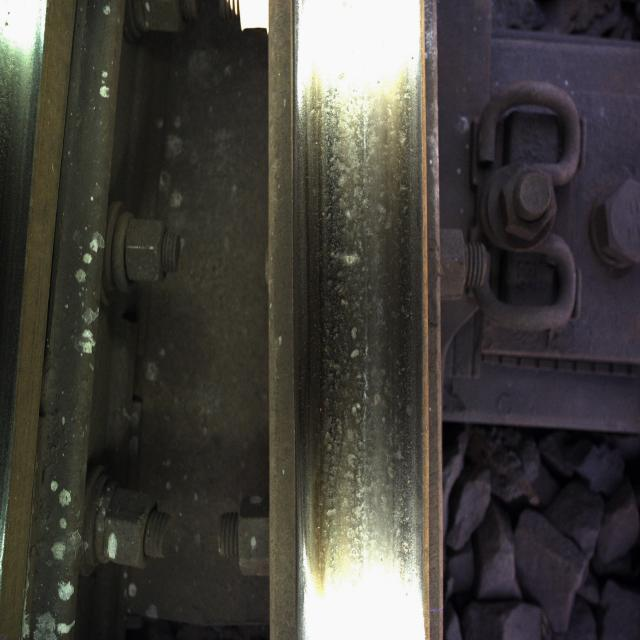scar: (308, 36, 410, 570)
